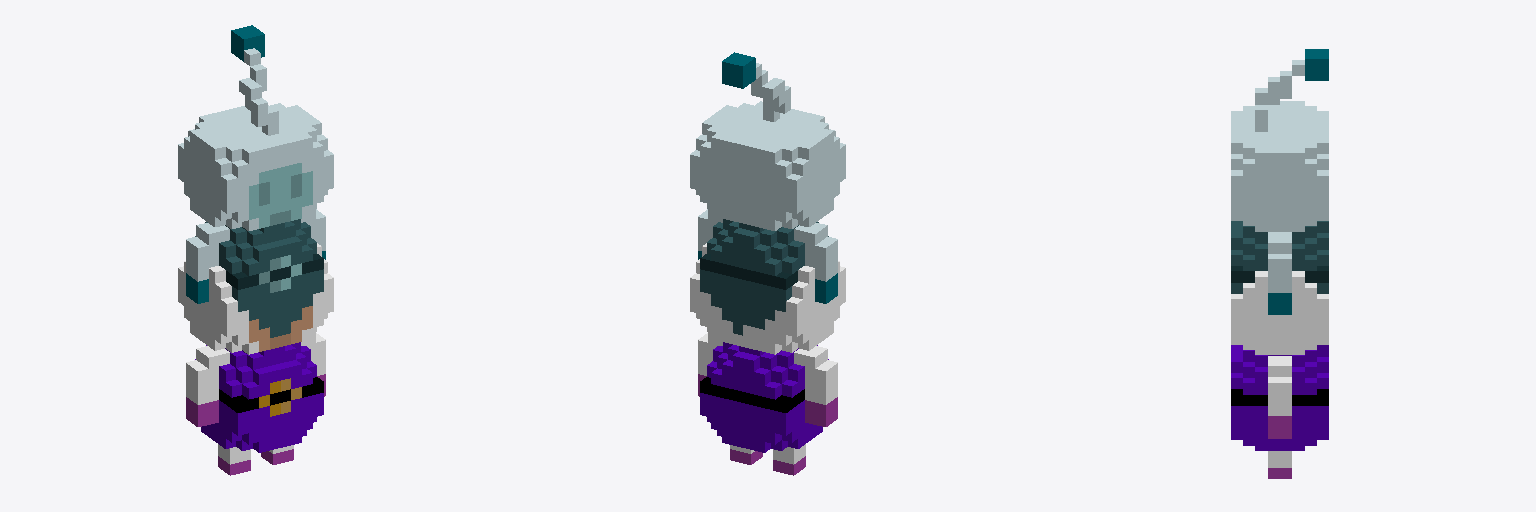
The picture shows the model from 3 angles: view 1: azimuth 30°, elevation 25°; view 2: azimuth 150°, elevation 25°; view 3: azimuth 270°, elevation 25°; orthographic projection.
Visible parts, largest first — view 1: bboi_die1; view 2: bboi_die1; view 3: bboi_die1.
Boxes of the visible parts, x1,y1,x2,y2 form: bboi_die1: [178, 25, 333, 475]; bboi_die1: [690, 52, 845, 475]; bboi_die1: [1231, 49, 1328, 478].
Size of the model in its own units: 12 by 37 by 8.
1 materials, 1 textured.